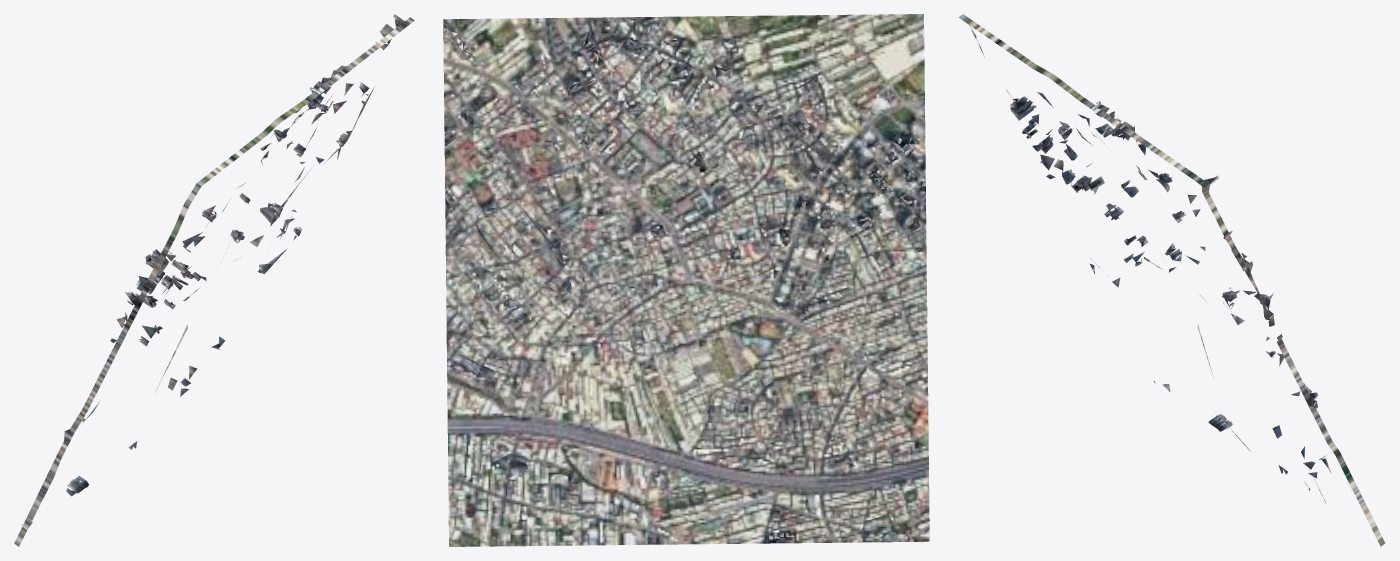
3 views of the same model, side by side, from view 1: azimuth 30°, elevation 25°; view 2: azimuth 150°, elevation 25°; view 3: azimuth 270°, elevation 25° (orthographic). The views are drawn at different scales.
Size of the model in its own units: 2445 by 2231 by 2070.
Materials: 1 (1 with a texture image).
